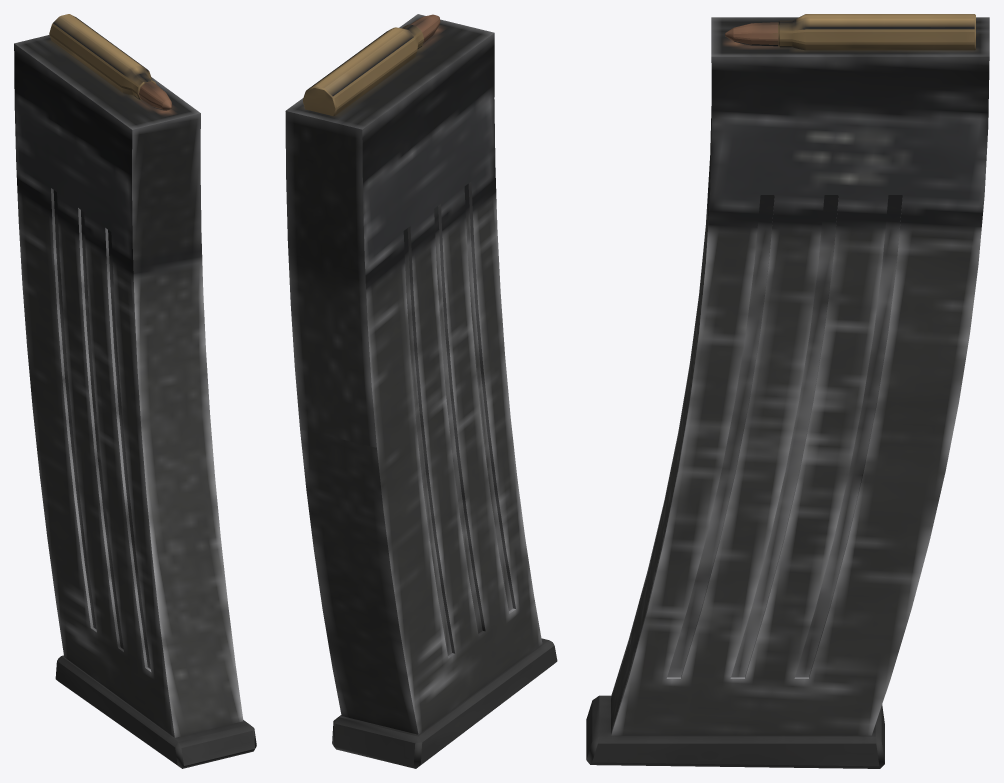
Rendered from m4_carbine_mag.glb.
3 views of the same model, side by side, from view 1: azimuth 30°, elevation 25°; view 2: azimuth 150°, elevation 25°; view 3: azimuth 270°, elevation 25° (orthographic). The views are drawn at different scales.
Visible parts, largest first — view 1: magazine; view 2: magazine; view 3: magazine.
Part boxes in pixels (bbox=[...]): magazine: bbox=[14, 14, 256, 768]; magazine: bbox=[285, 14, 557, 768]; magazine: bbox=[586, 14, 989, 768].
Bounding box in the file's own units: 0.024 × 0.1815 × 0.0899.
1 material, 1 textured.
